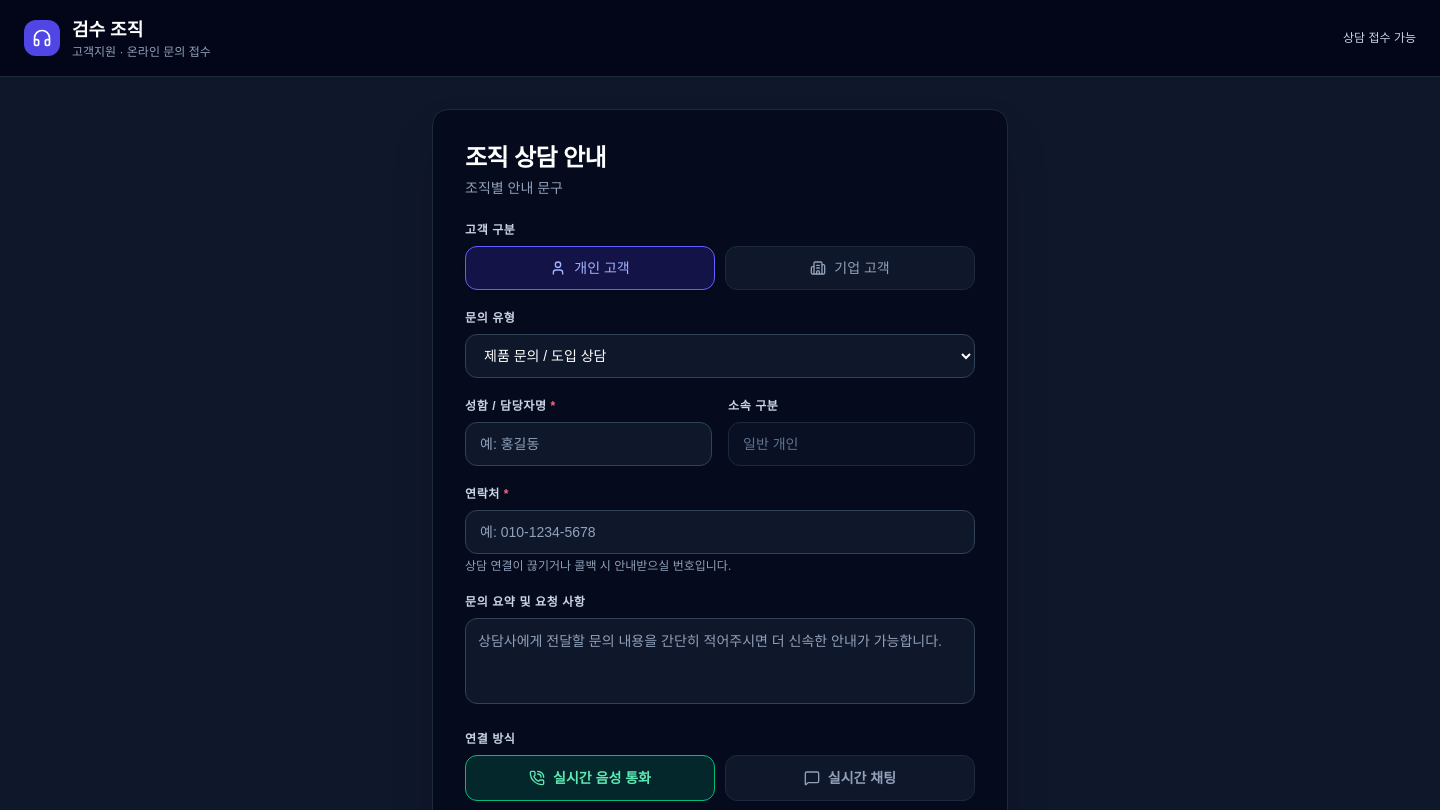
form sends a ticket with branding and does not claim fake estimated time or end to end encryption
Expected: the heading "조직 상담 안내" is shown, [465,144,606,171]
Type "입력 고객" into the field labelled "성함 / 담당자명 *" at [588, 444], box [465,422,712,466]
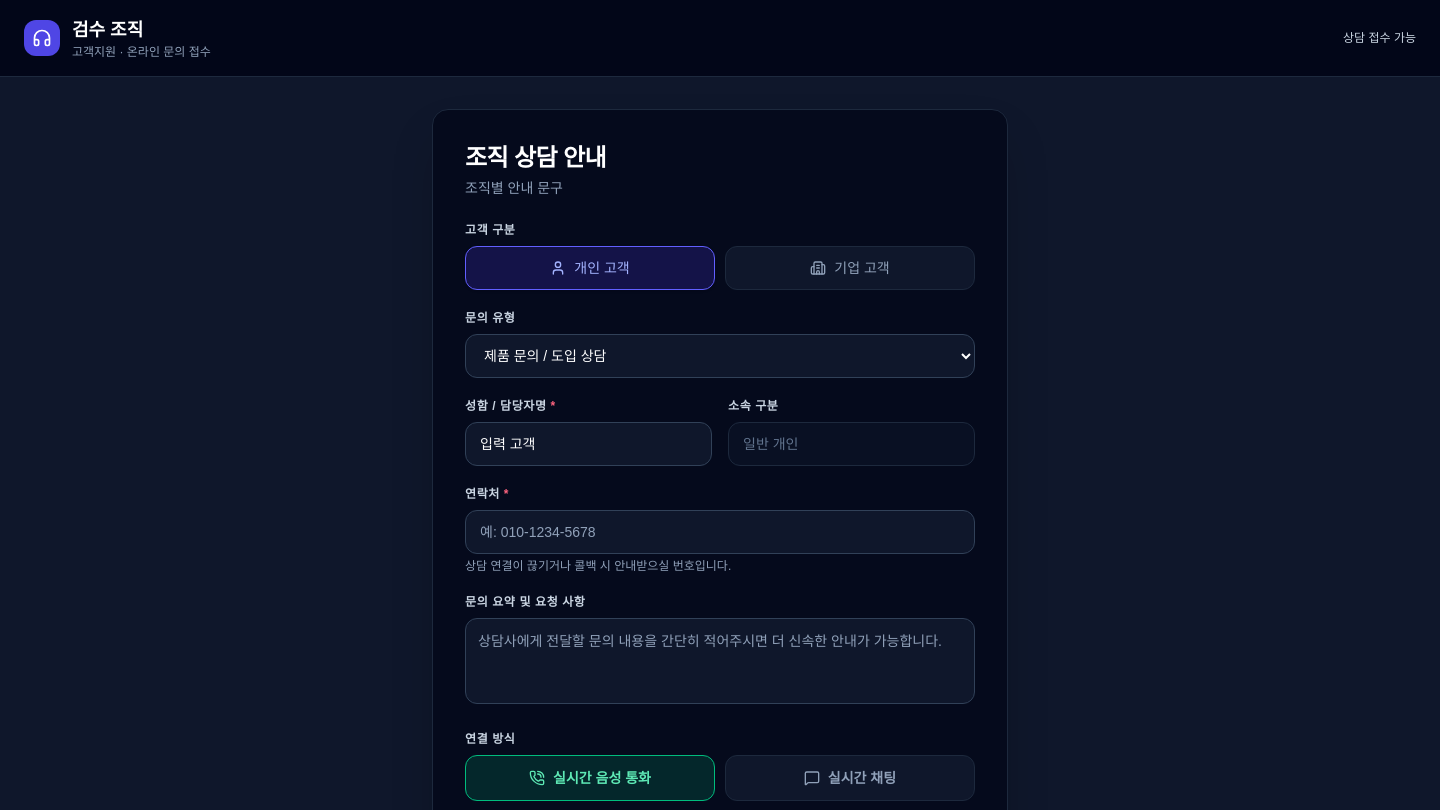
Type "01012345678" into the field labelled "연락처 *" at [720, 532], box [465,510,975,554]
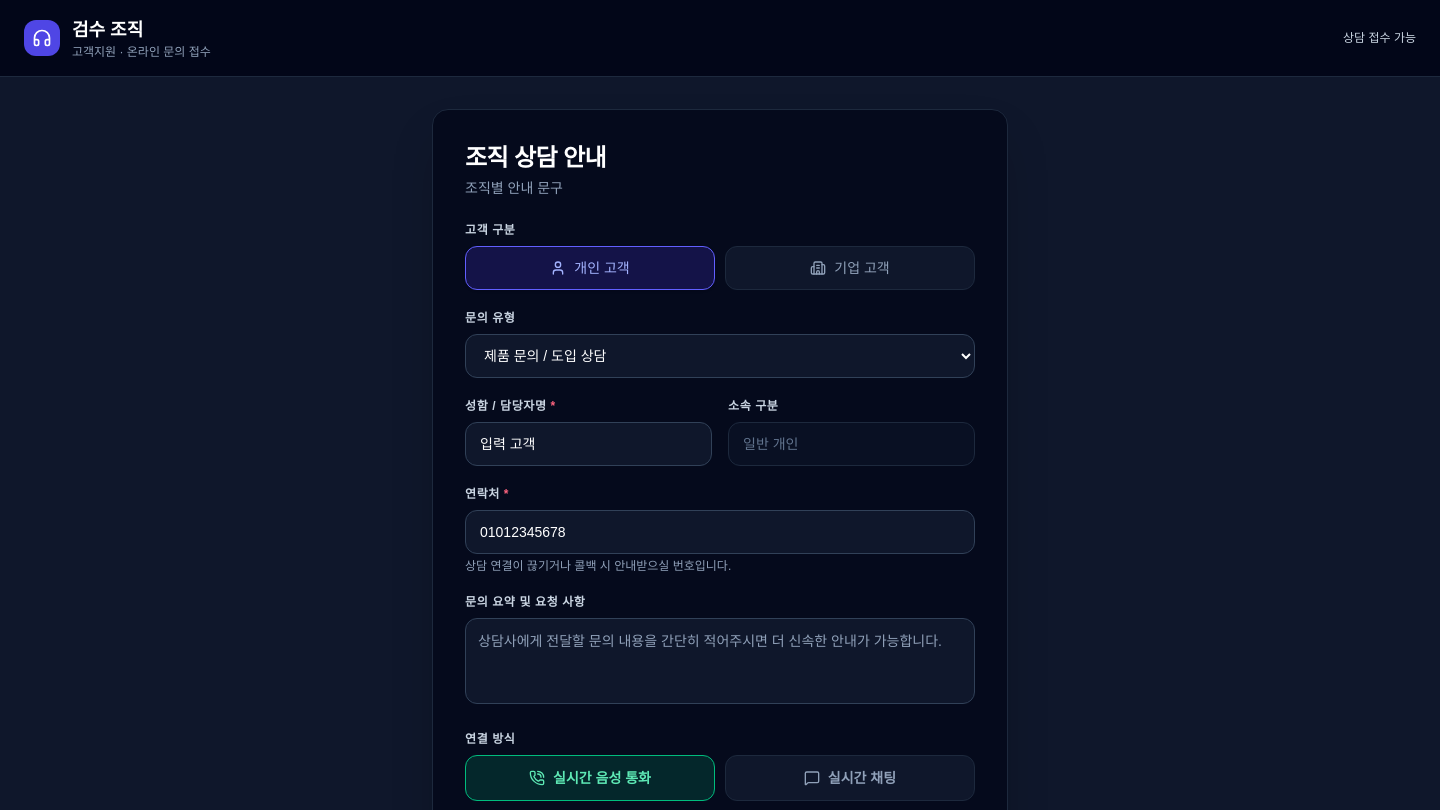
Type "입력 문의" into the text box labelled "문의 요약 및 요청 사항" at [720, 661], box [465,618,975,704]
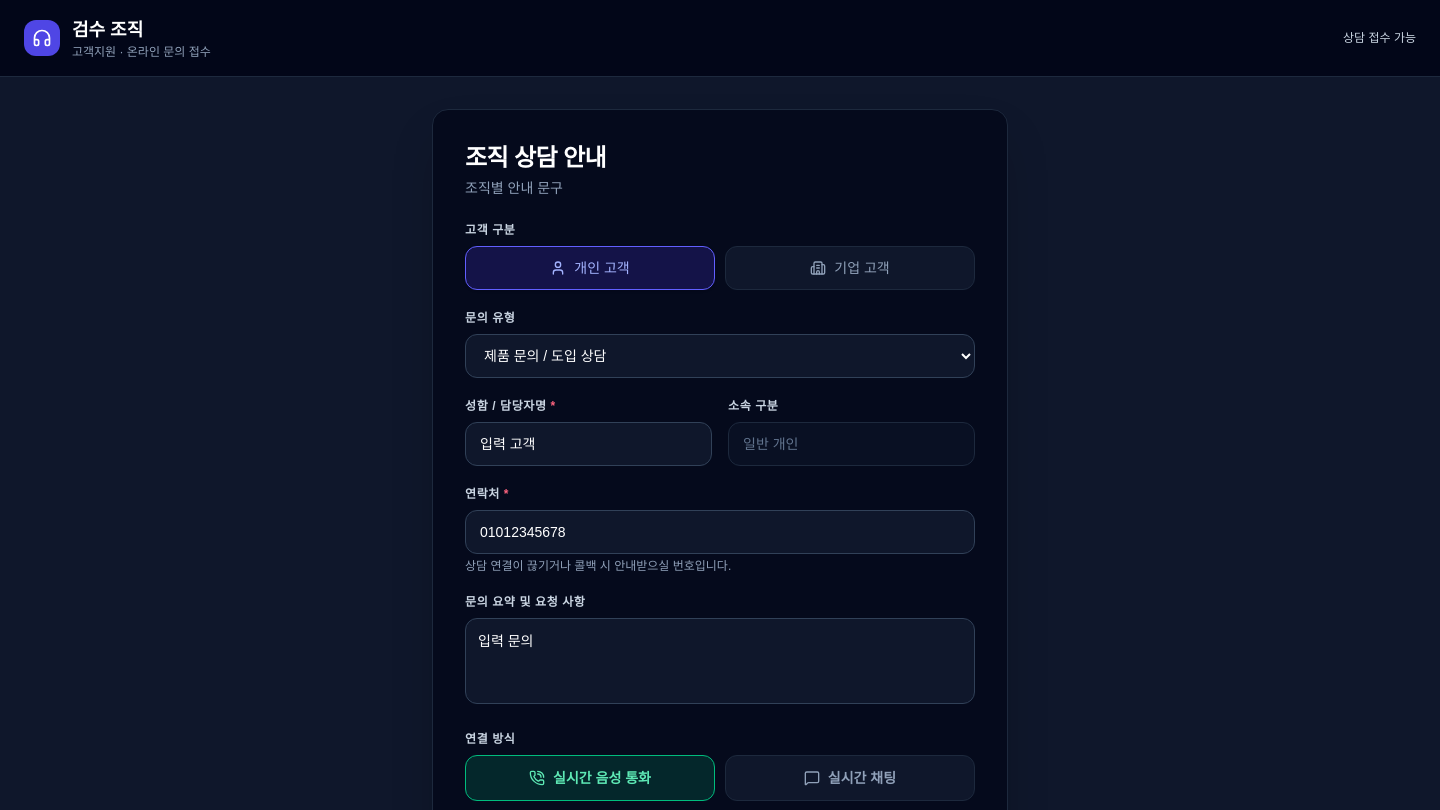
Click the button "실시간 채팅" at [850, 778], box [725,755,975,801]
(page scrolled)
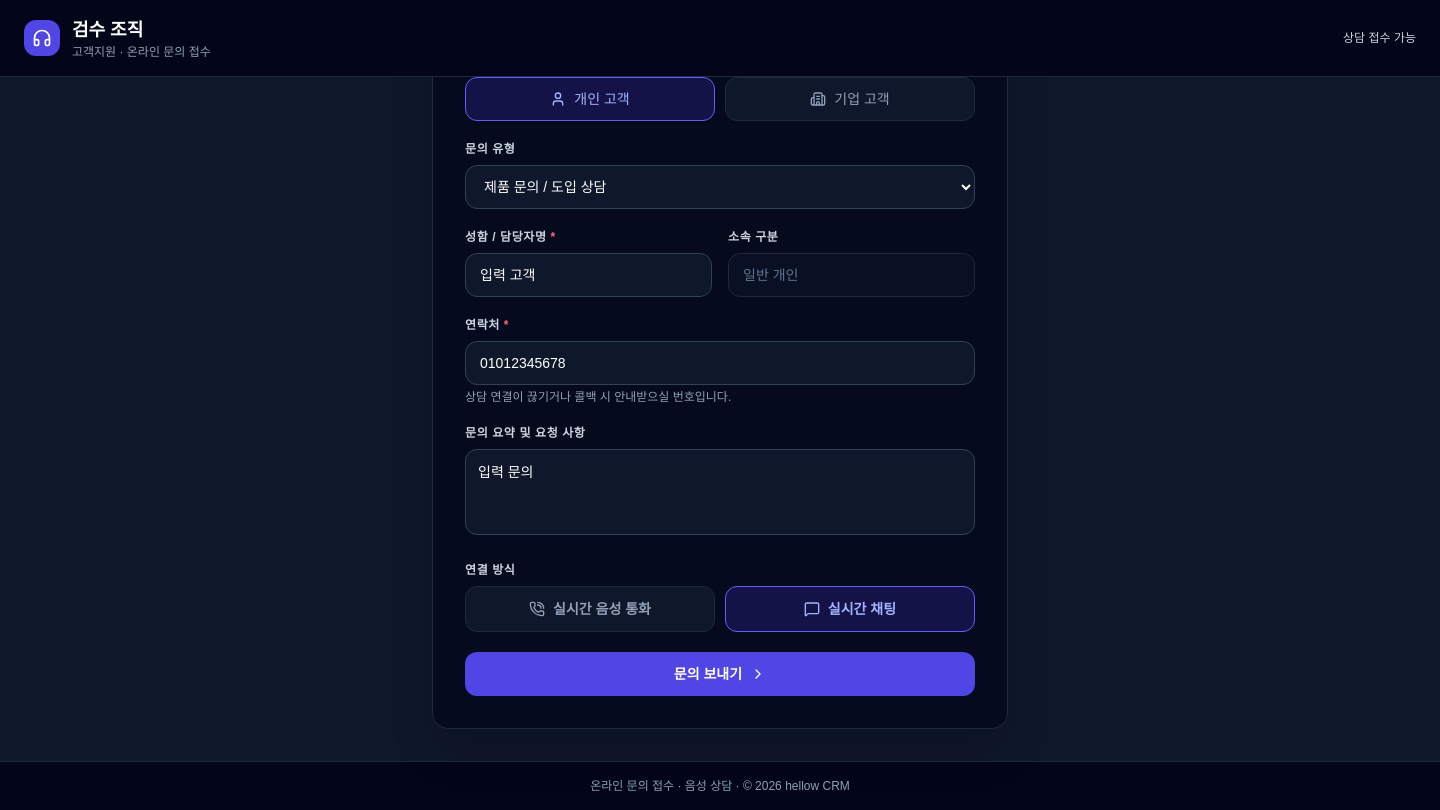
Click the button "문의 보내기" at [720, 674], box [465,652,975,696]
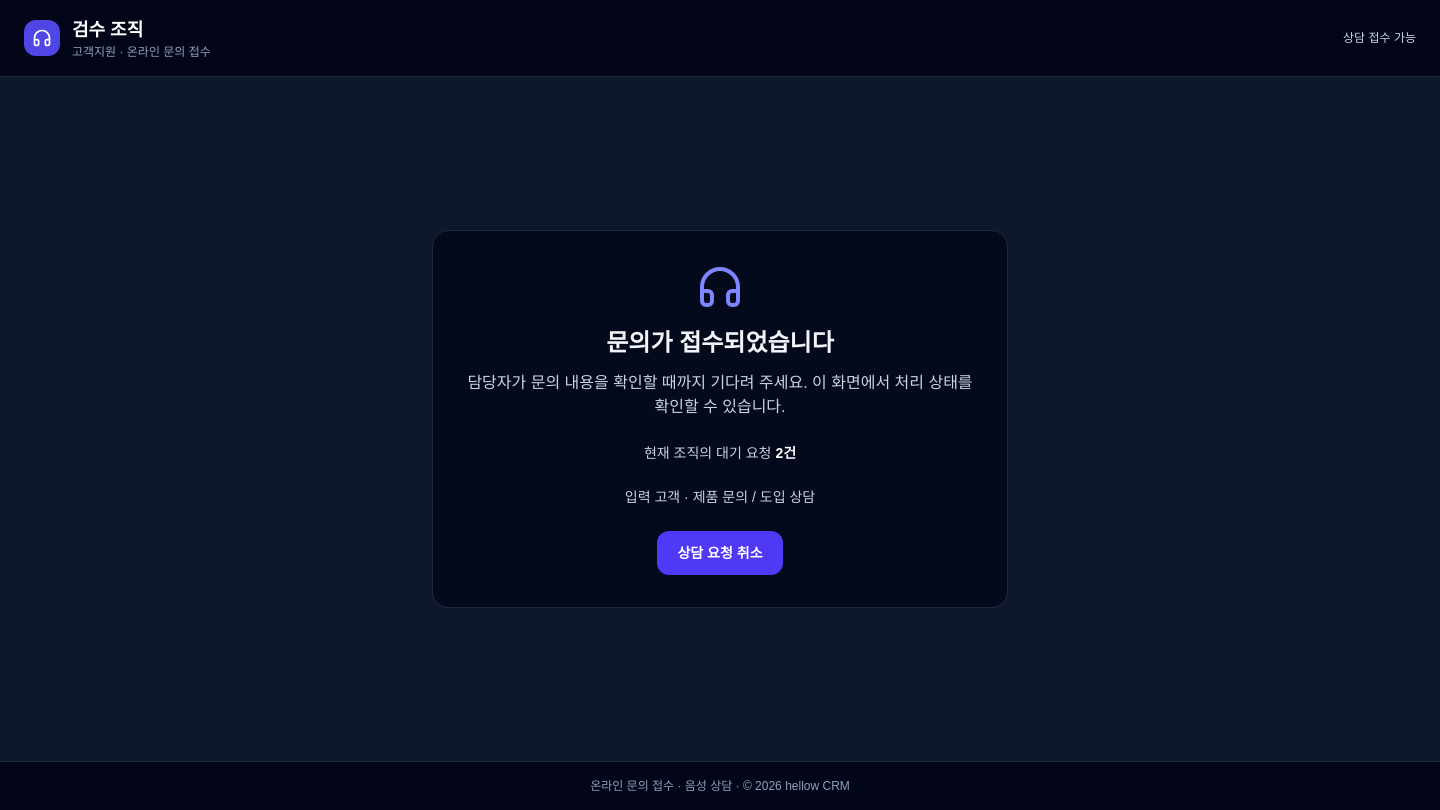
Result: the heading "문의가 접수되었습니다" is shown at [606,329,834,356]
